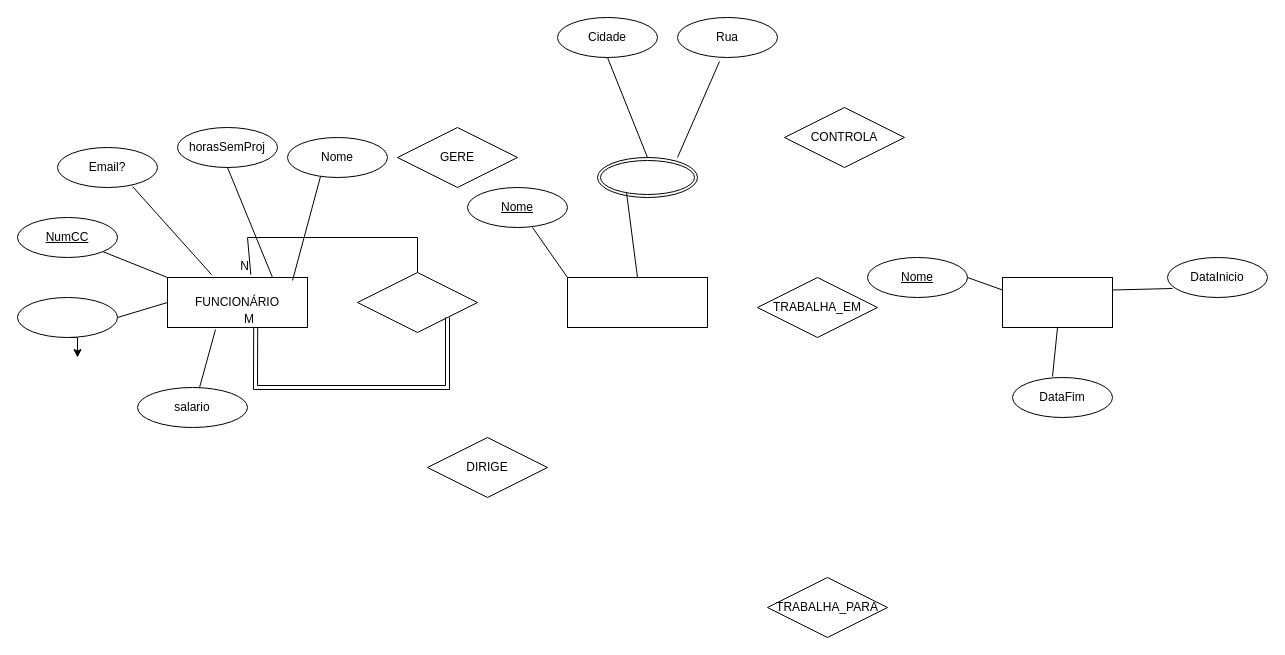
Some shapes in this 1285 by 655 pixel diagram are drawn without their labels. The centre of each missing label's shape, as x and y in pixels:
"Datanasc" goes at (x=67, y=317).
"DEPARTAMENTO" goes at (x=637, y=302).
"localização" goes at (x=647, y=177).
"PROJECTO" goes at (x=1057, y=302).
"SUPERVISIONA" goes at (x=417, y=302).
